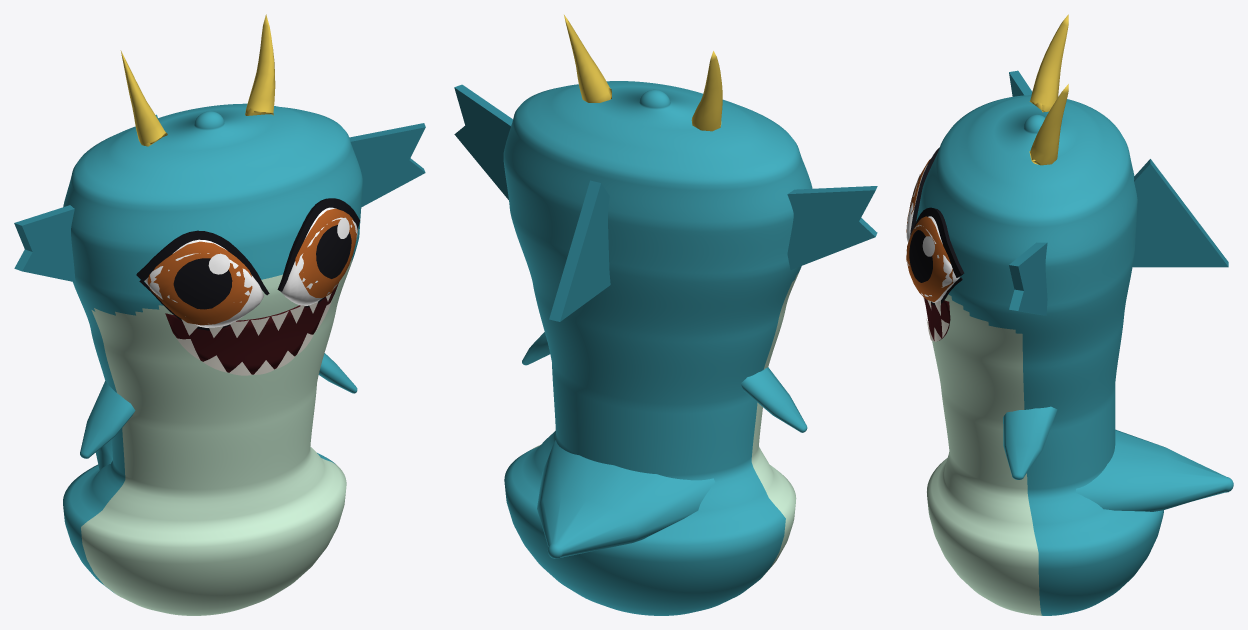
Rendered from thresher.fbx.
3 renders of one model, left to right at view 1: azimuth 30°, elevation 25°; view 2: azimuth 150°, elevation 25°; view 3: azimuth 270°, elevation 25°, orthographic. The views are drawn at different scales.
Visible parts, largest first — view 1: Slug_thresher; view 2: Slug_thresher; view 3: Slug_thresher.
Part boxes in pixels (x1,y1,x2,y2): Slug_thresher: [14, 14, 425, 615]; Slug_thresher: [454, 15, 877, 615]; Slug_thresher: [906, 14, 1233, 615].
Size of the model in its own units: 0.5775 by 0.758 by 0.4081.
